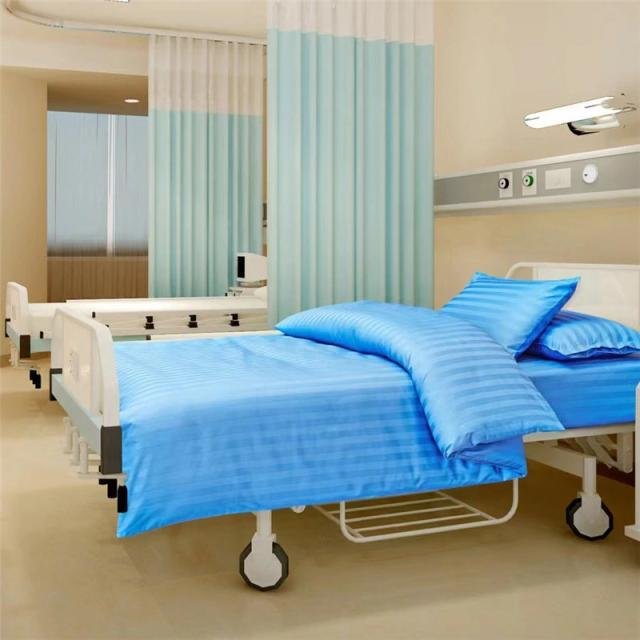sofa: (50, 260, 640, 592)
